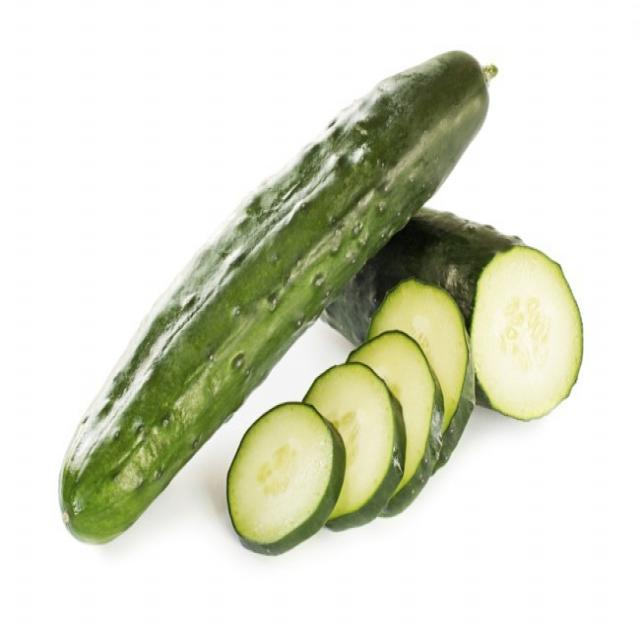cucumber: (21, 0, 586, 569), (266, 136, 592, 435), (178, 261, 504, 545), (293, 304, 470, 540), (208, 386, 372, 590), (279, 338, 426, 558)
